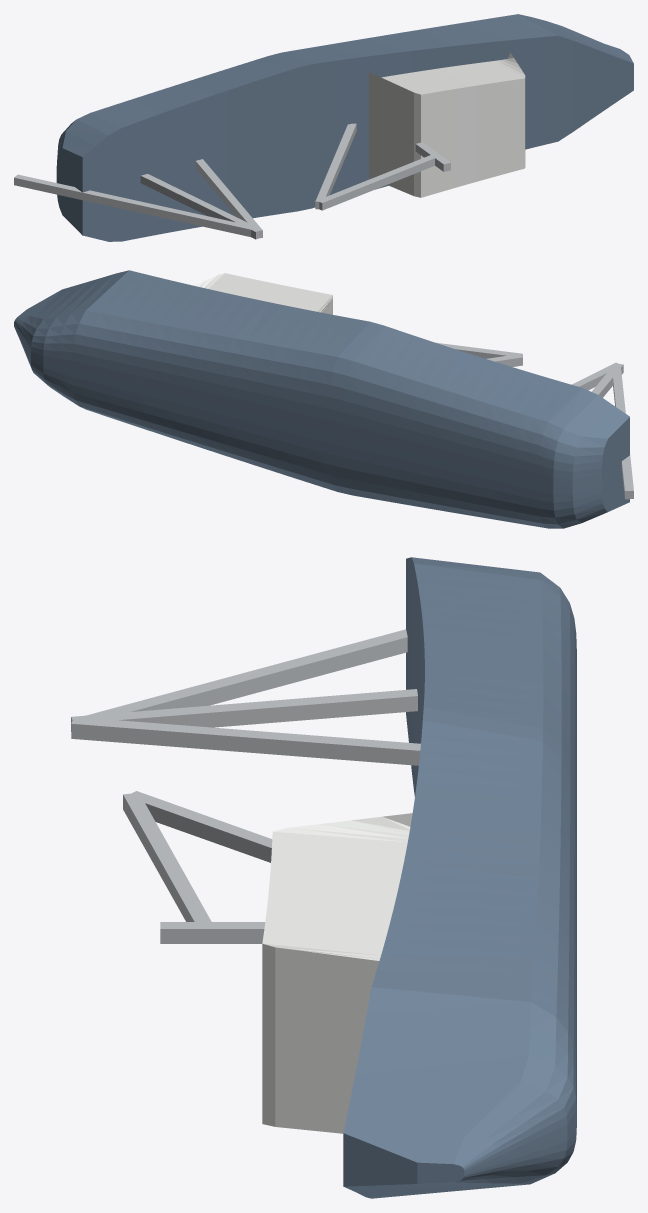
Rendered from fishing-gear-loft-sheered.glb.
3 views of the same model, one above another, from view 1: azimuth 30°, elevation 25°; view 2: azimuth 150°, elevation 25°; view 3: azimuth 270°, elevation 25° (orthographic). The views are drawn at different scales.
Visible parts, largest first — view 1: fishing-gear-loft-sheered; view 2: fishing-gear-loft-sheered; view 3: fishing-gear-loft-sheered.
Boxes of the visible parts, x1,y1,x2,y2 form: fishing-gear-loft-sheered: (14, 14, 633, 241); fishing-gear-loft-sheered: (14, 270, 633, 528); fishing-gear-loft-sheered: (71, 557, 576, 1198).
Bounding box in the file's own units: 1.95 × 0.4592 × 0.7292.
